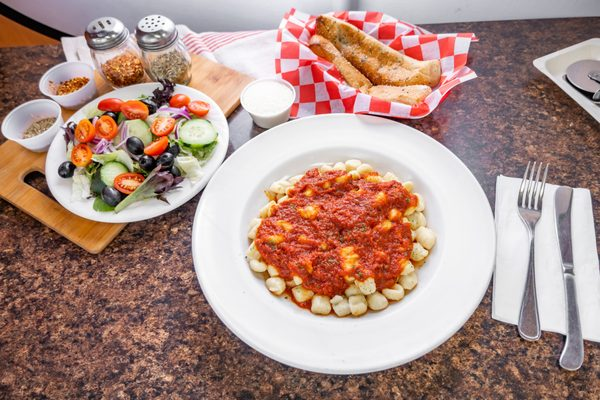burger: (516, 159, 549, 340), (516, 176, 542, 340)
pizza: (240, 75, 298, 128)
sandwich: (553, 186, 586, 373)
soup: (309, 12, 442, 90)
sushi: (60, 80, 229, 217), (1, 97, 63, 152), (38, 61, 99, 108)
